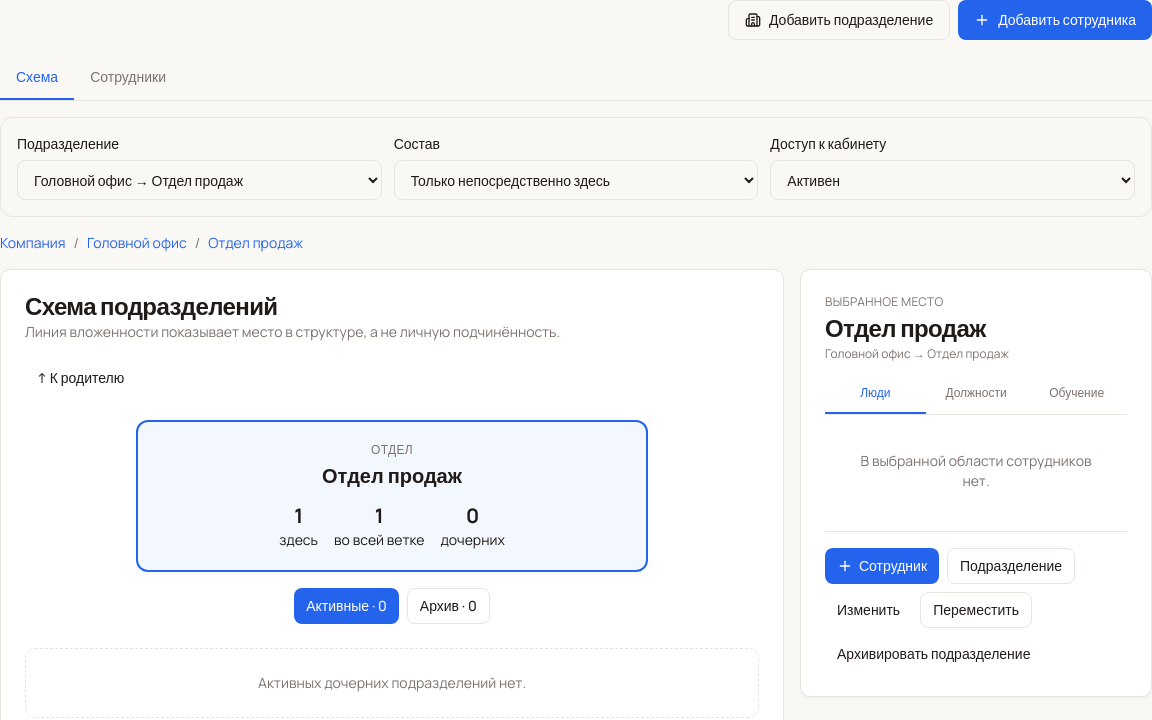
it: StaffWorkspace › explains where methodologists manage training requirements and assignments
Click the tab "Обучение": (1077, 394) [1026,374,1127,414]
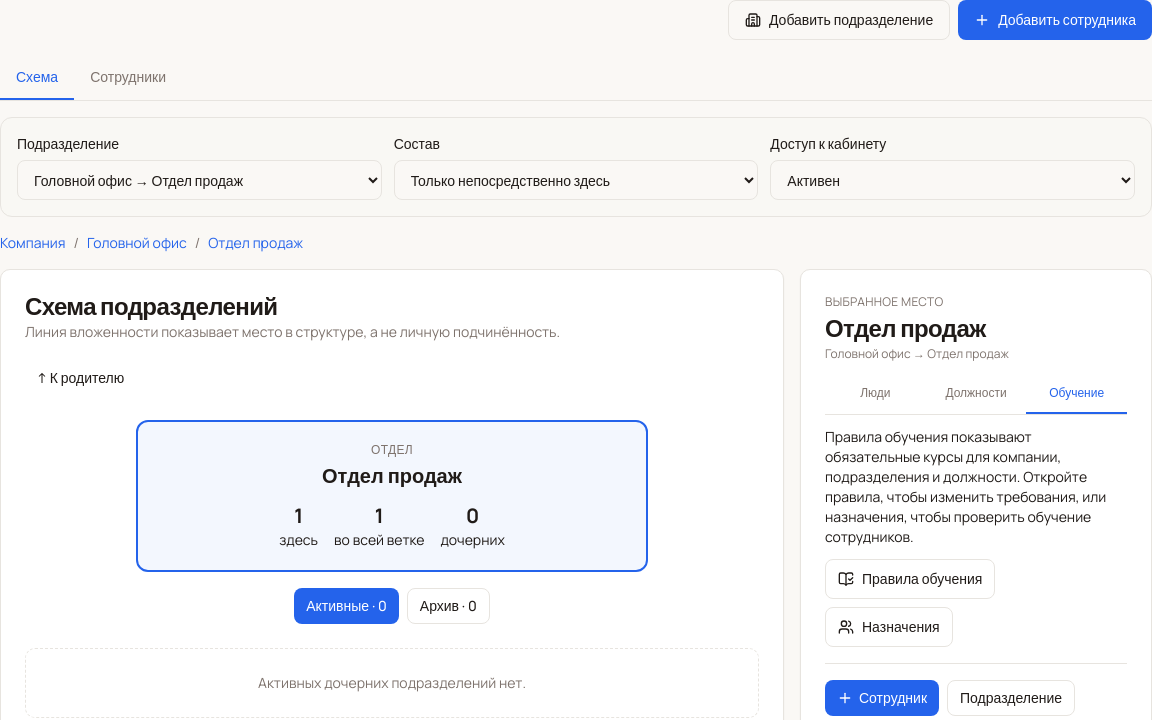
Result: the text "Откройте правила, чтобы изменить требования, или назначения, чтобы проверить обучение сотрудников" is shown at [825,427,1106,546]
